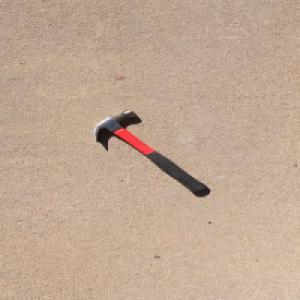Hammer: (93, 109, 208, 193)
